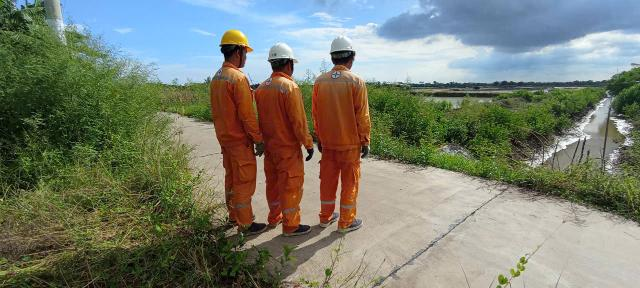gloves: (252, 140, 271, 159), (358, 141, 374, 159), (304, 143, 317, 160), (315, 136, 326, 155)
helmet: (218, 27, 254, 57), (266, 40, 302, 66), (327, 35, 360, 59)
shoes: (229, 215, 271, 240), (316, 207, 340, 229), (226, 211, 258, 225), (337, 220, 366, 234), (284, 222, 312, 236)
